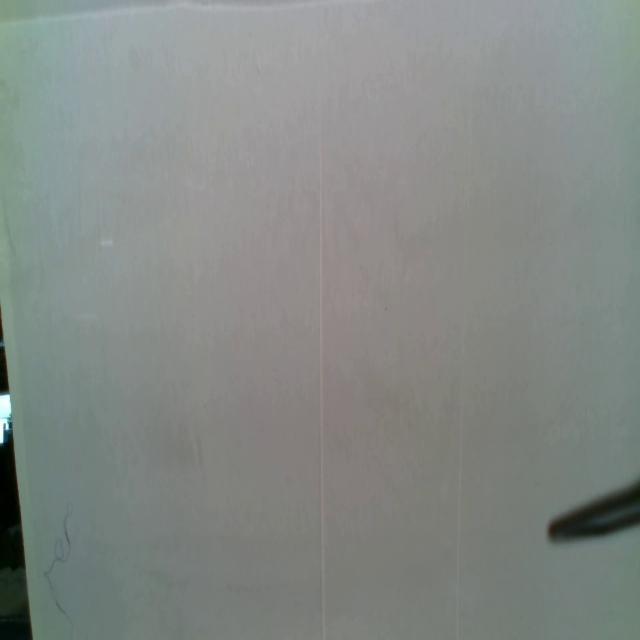crease: (456, 108, 474, 639), (317, 133, 327, 640)
